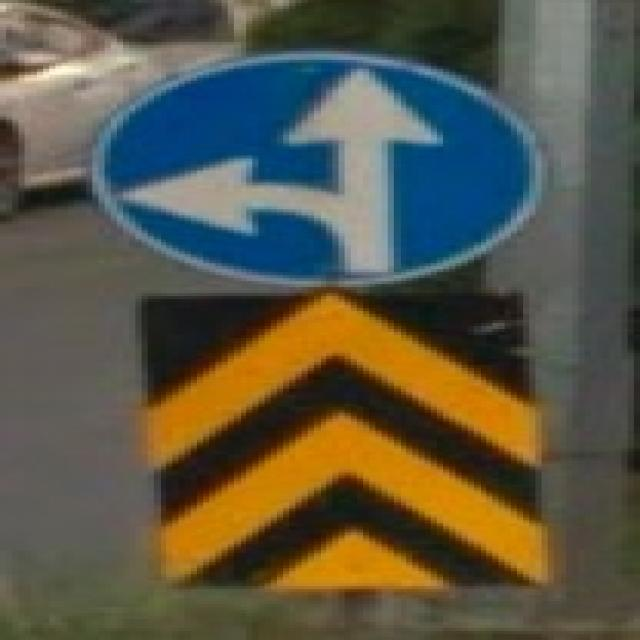Straight or Left: (94, 52, 543, 285)
